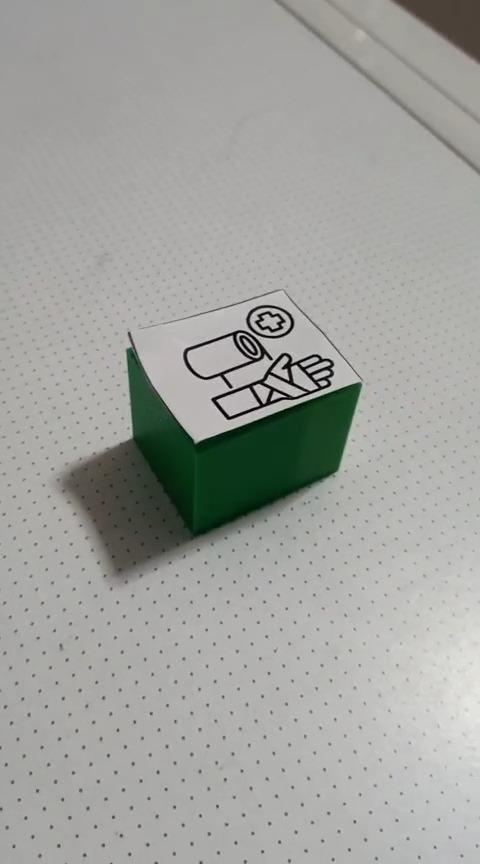Bandages: (124, 287, 363, 537)
